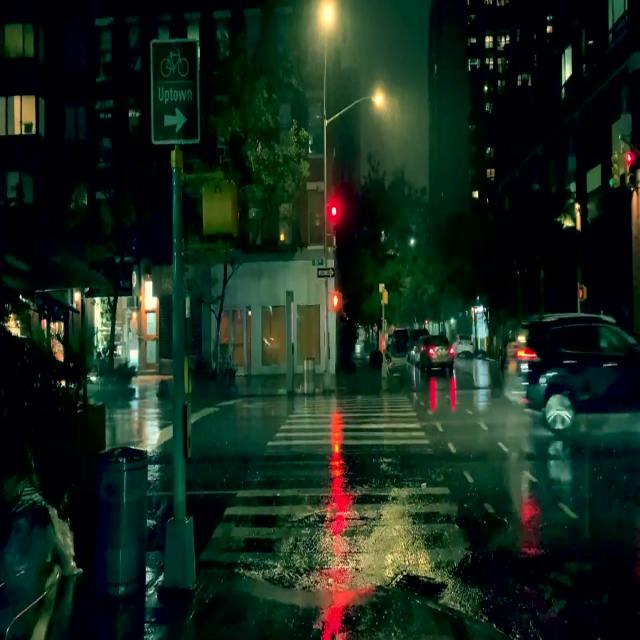Car: (511, 315, 637, 429), (414, 333, 450, 367)
